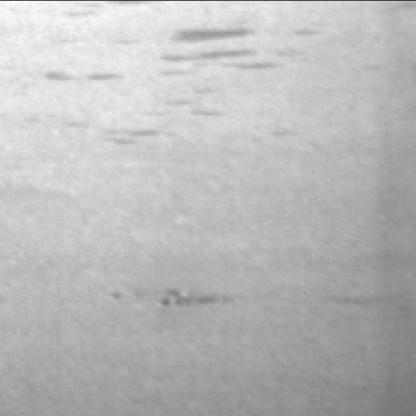inclusion: (148, 19, 308, 81), (106, 277, 235, 316), (83, 114, 181, 152)
